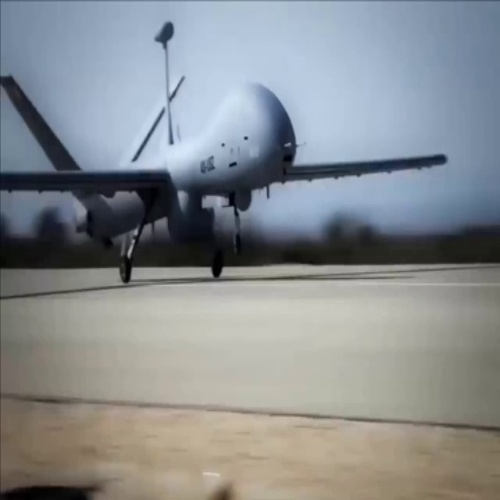uav800: (1, 21, 451, 284)
